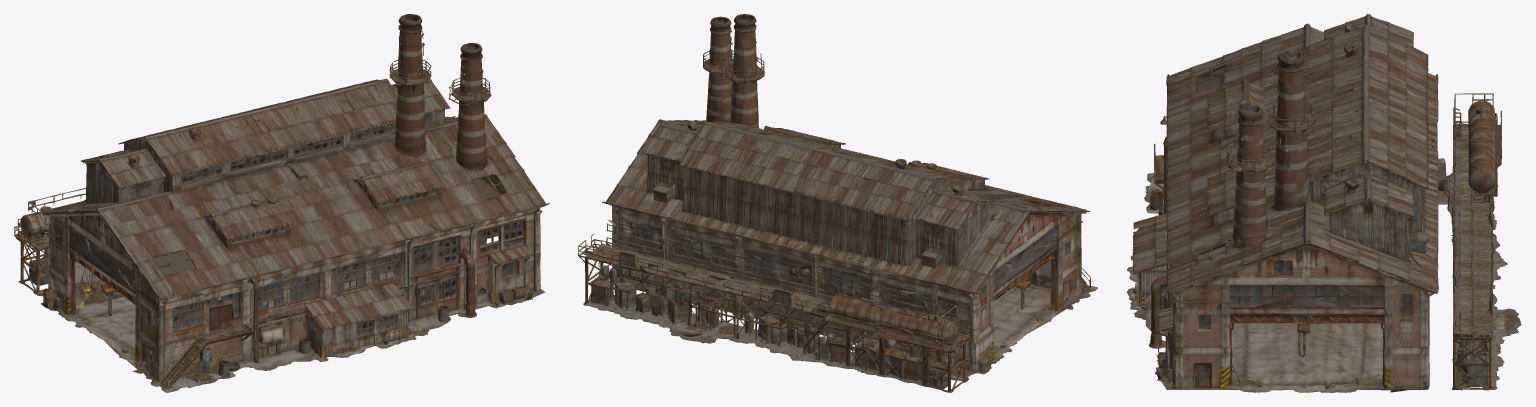
The model's file is foundry.glb.
The picture shows the model from 3 angles, left to right: view 1: azimuth 30°, elevation 25°; view 2: azimuth 150°, elevation 25°; view 3: azimuth 270°, elevation 25°; orthographic projection. The views are drawn at different scales.
Visible parts, largest first — view 1: Mesh_0; view 2: Mesh_0; view 3: Mesh_0.
Part boxes in pixels (x1,y1,x2,y2): Mesh_0: (14, 14, 549, 392); Mesh_0: (578, 14, 1097, 392); Mesh_0: (1126, 14, 1521, 392).
Size of the model in its own units: 1.9 by 1.18 by 1.43.
1 material, 1 textured.
